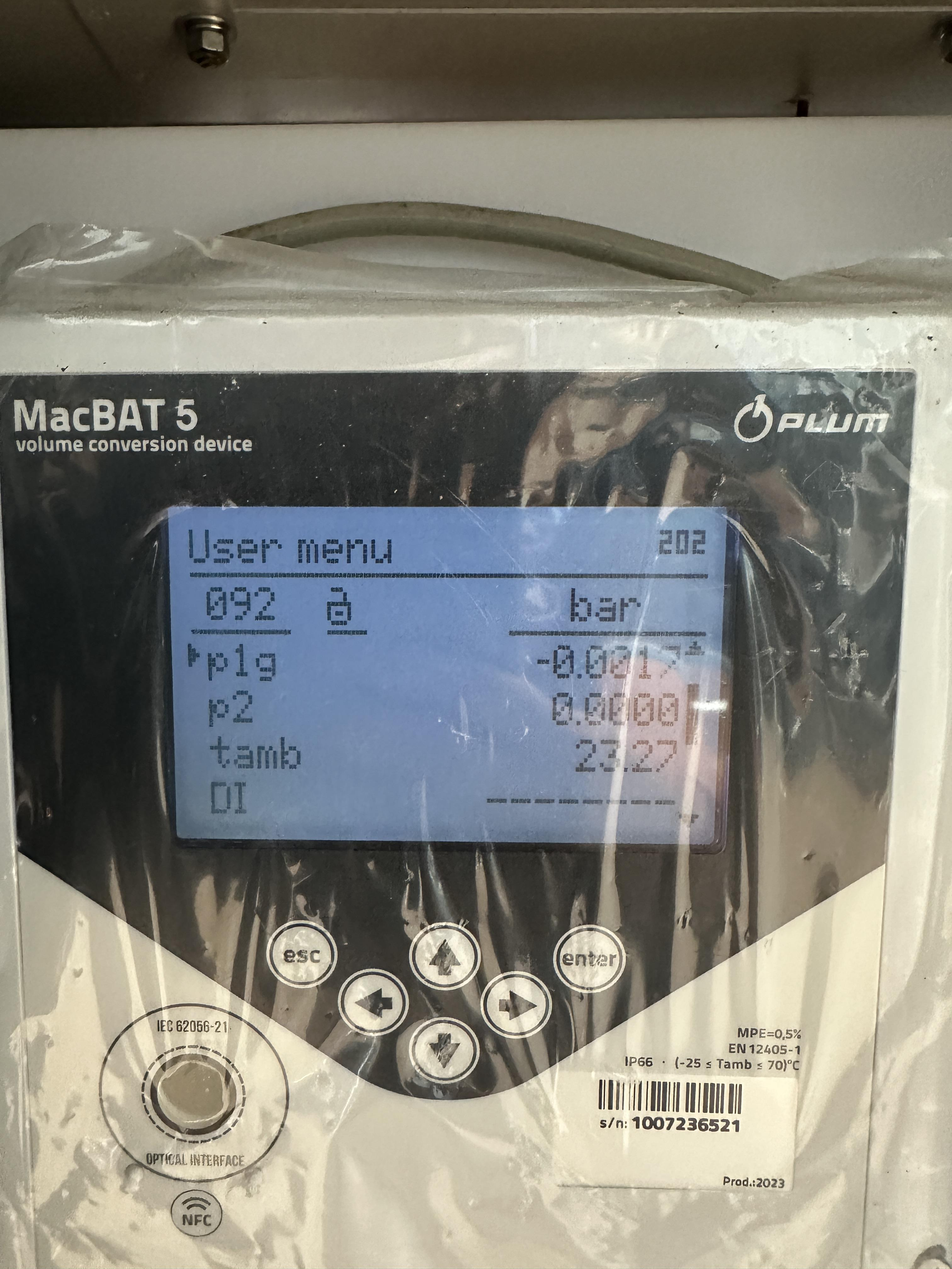digital_screen: (166, 503, 728, 843)
